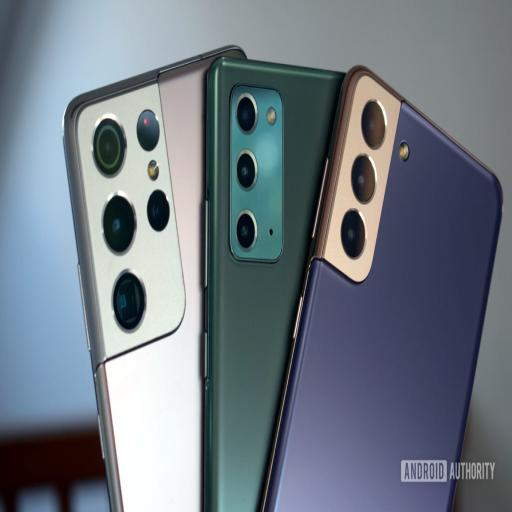phone: (259, 66, 501, 511)
